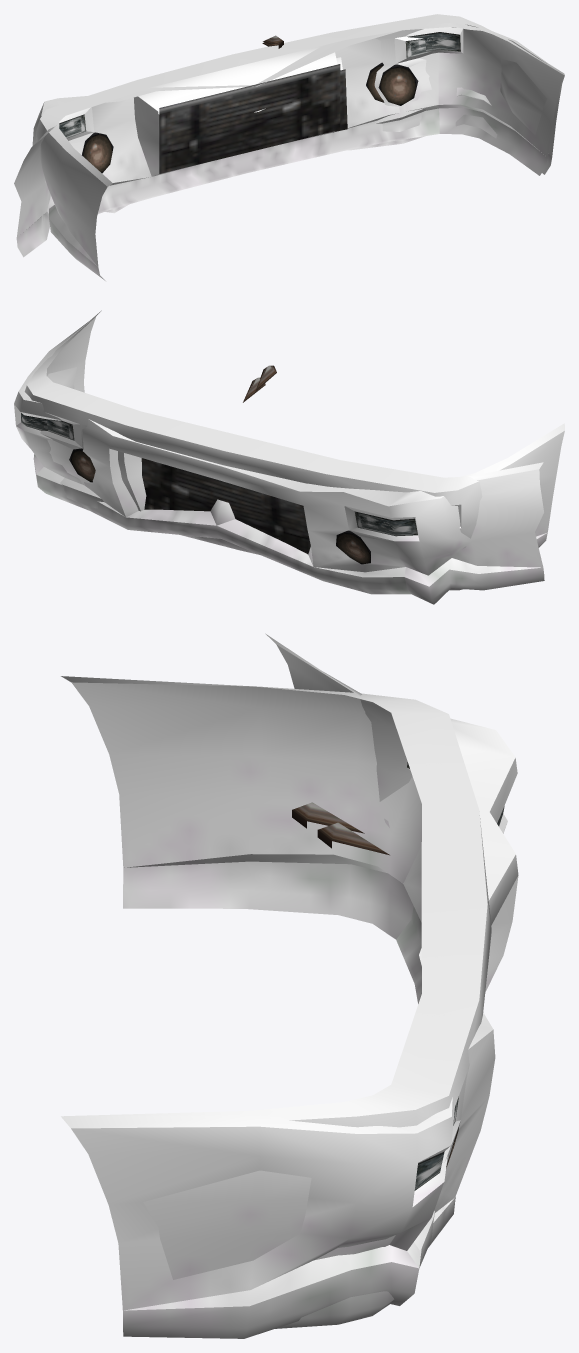
Rendered from fbmp_c_s.glb.
3 views of the same model, one above another, from view 1: azimuth 30°, elevation 25°; view 2: azimuth 150°, elevation 25°; view 3: azimuth 270°, elevation 25° (orthographic). The views are drawn at different scales.
Visible parts, largest first — view 1: fbmp_c_s, fbmp_c_s_dam; view 2: fbmp_c_s_dam, fbmp_c_s; view 3: fbmp_c_s, fbmp_c_s_dam.
Boxes of the visible parts, bbox=[...] form: fbmp_c_s: bbox=[36, 14, 564, 280]; fbmp_c_s_dam: bbox=[14, 23, 564, 257]; fbmp_c_s_dam: bbox=[14, 312, 544, 604]; fbmp_c_s: bbox=[24, 310, 564, 590]; fbmp_c_s: bbox=[61, 676, 491, 1328]; fbmp_c_s_dam: bbox=[61, 633, 518, 1338].
Size of the model in its own units: 2.37 by 0.7675 by 0.9457.
Materials: 4 (4 with a texture image).
